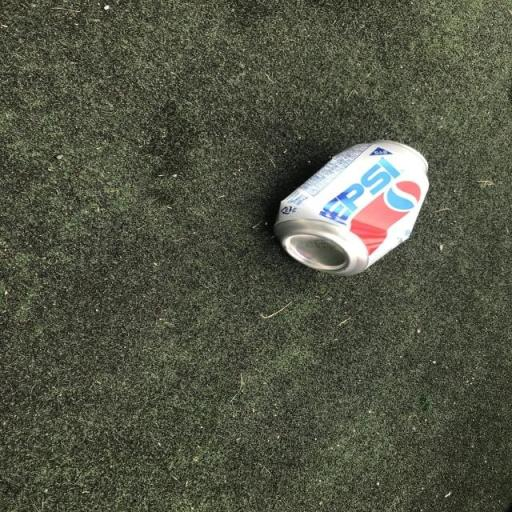metal: (258, 119, 462, 295)
